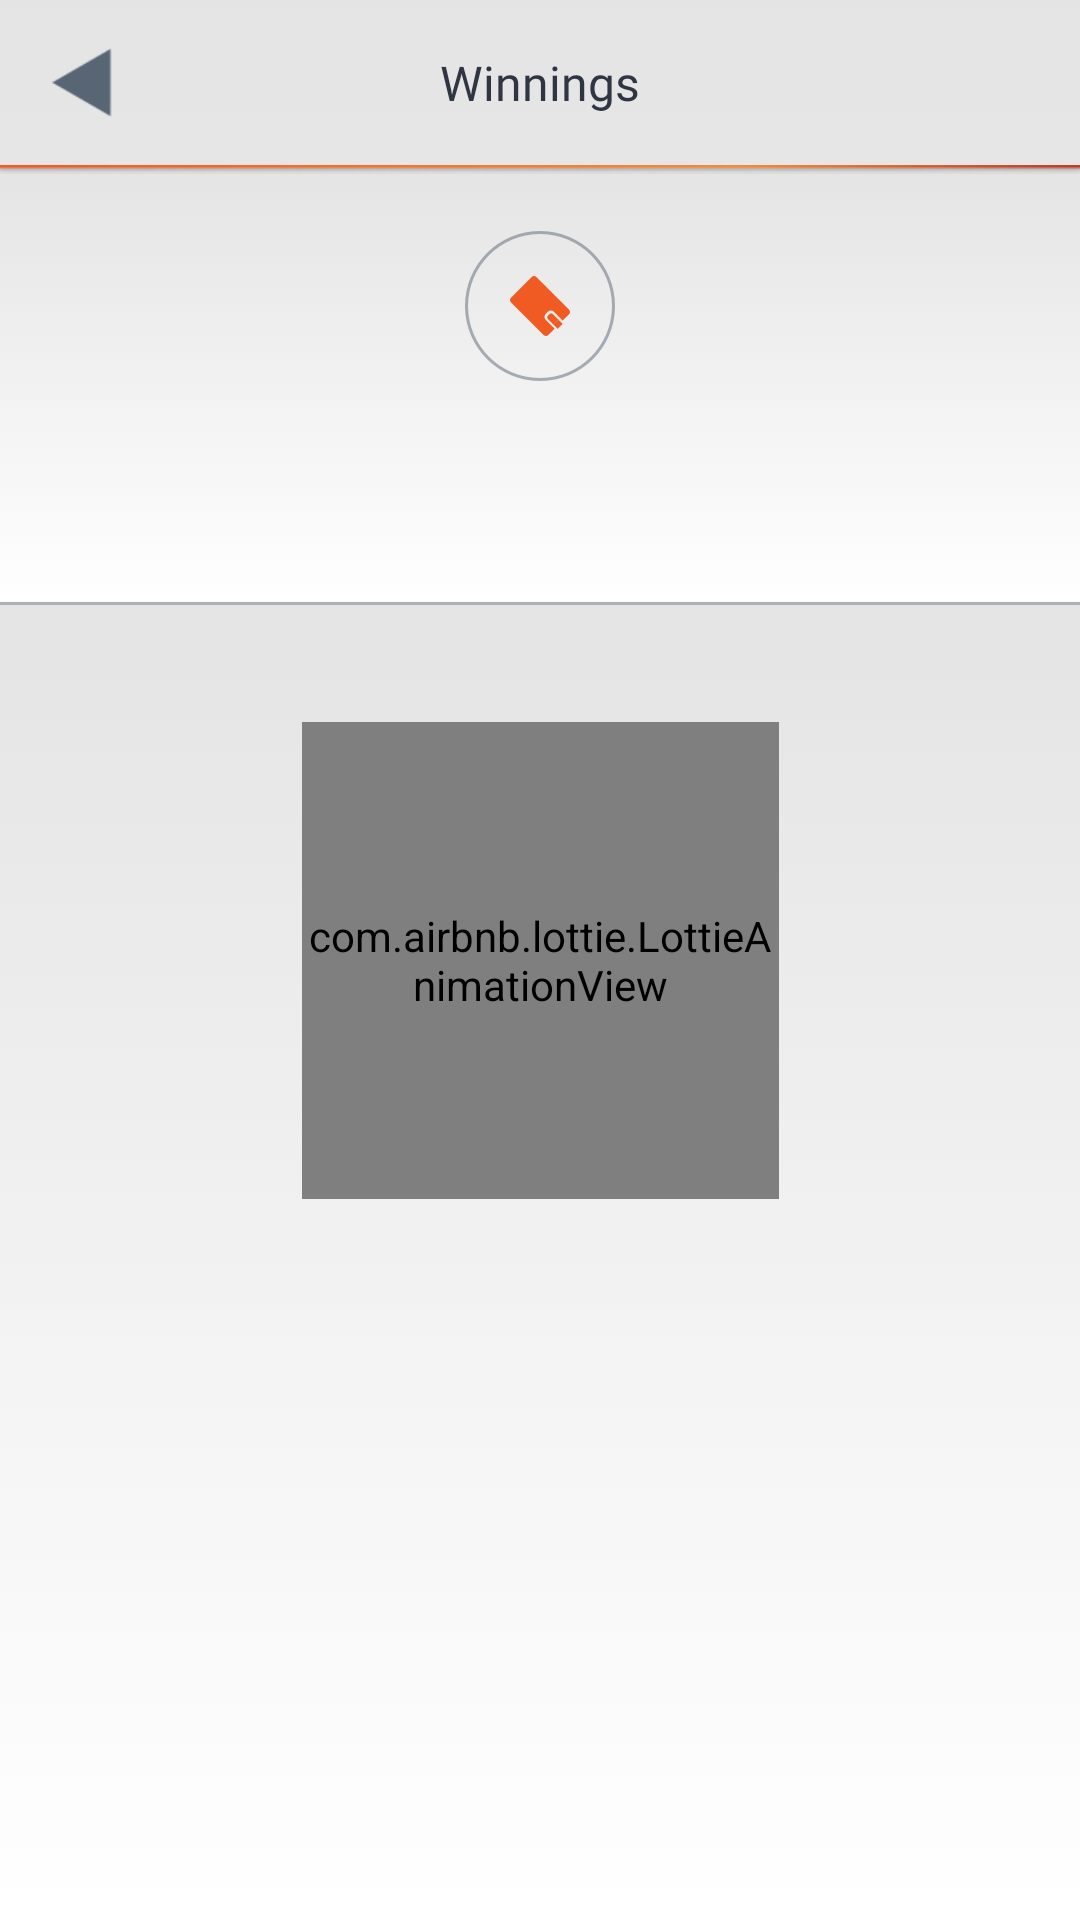

Where to tap for icons on this 1080px×1920px app screen, as (x=x, y=y):
setting back: (x=81, y=82)
